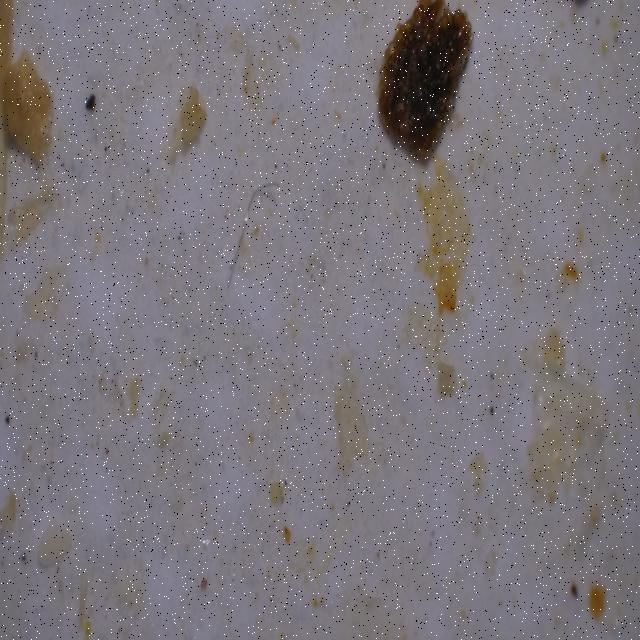fibers: (210, 174, 280, 287)
